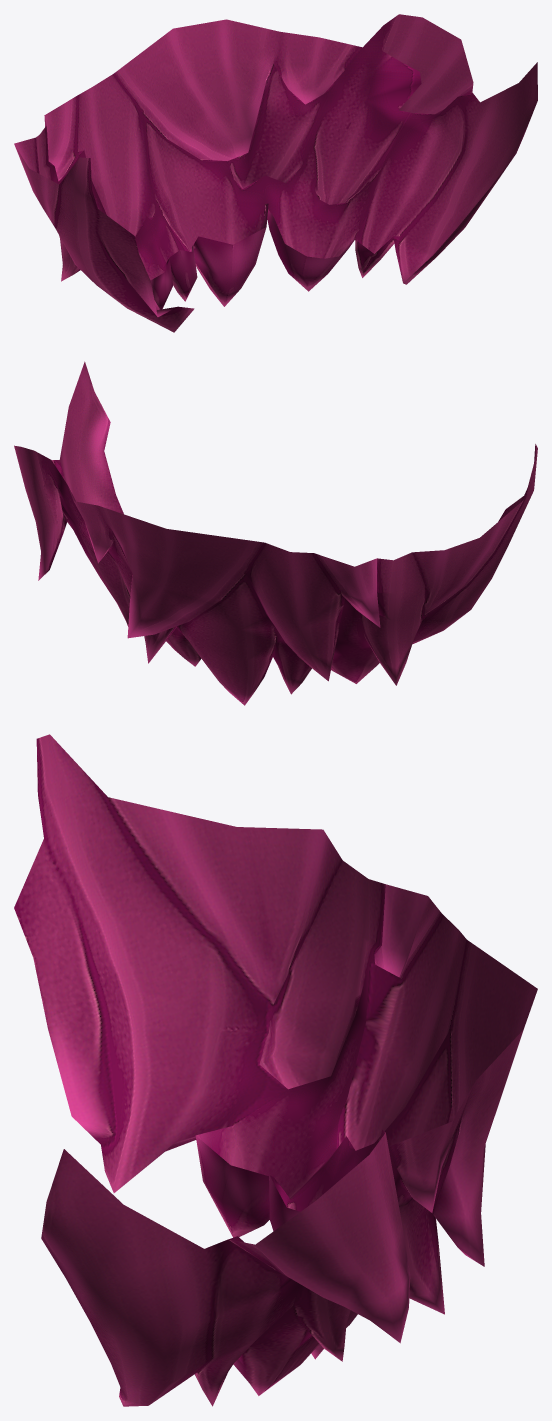
3 views of the same model, one above another, from view 1: azimuth 30°, elevation 25°; view 2: azimuth 150°, elevation 25°; view 3: azimuth 270°, elevation 25° (orthographic). The views are drawn at different scales.
Visible parts, largest first — view 1: Baby_Gril_01_hair_3; view 2: Baby_Gril_01_hair_3; view 3: Baby_Gril_01_hair_3.
Part boxes in pixels (box(x1,y1,x2,y2)): Baby_Gril_01_hair_3: box(14, 14, 537, 332); Baby_Gril_01_hair_3: box(14, 361, 537, 705); Baby_Gril_01_hair_3: box(14, 734, 537, 1406).
Size of the model in its own units: 99.3 by 53.48 by 57.38.
